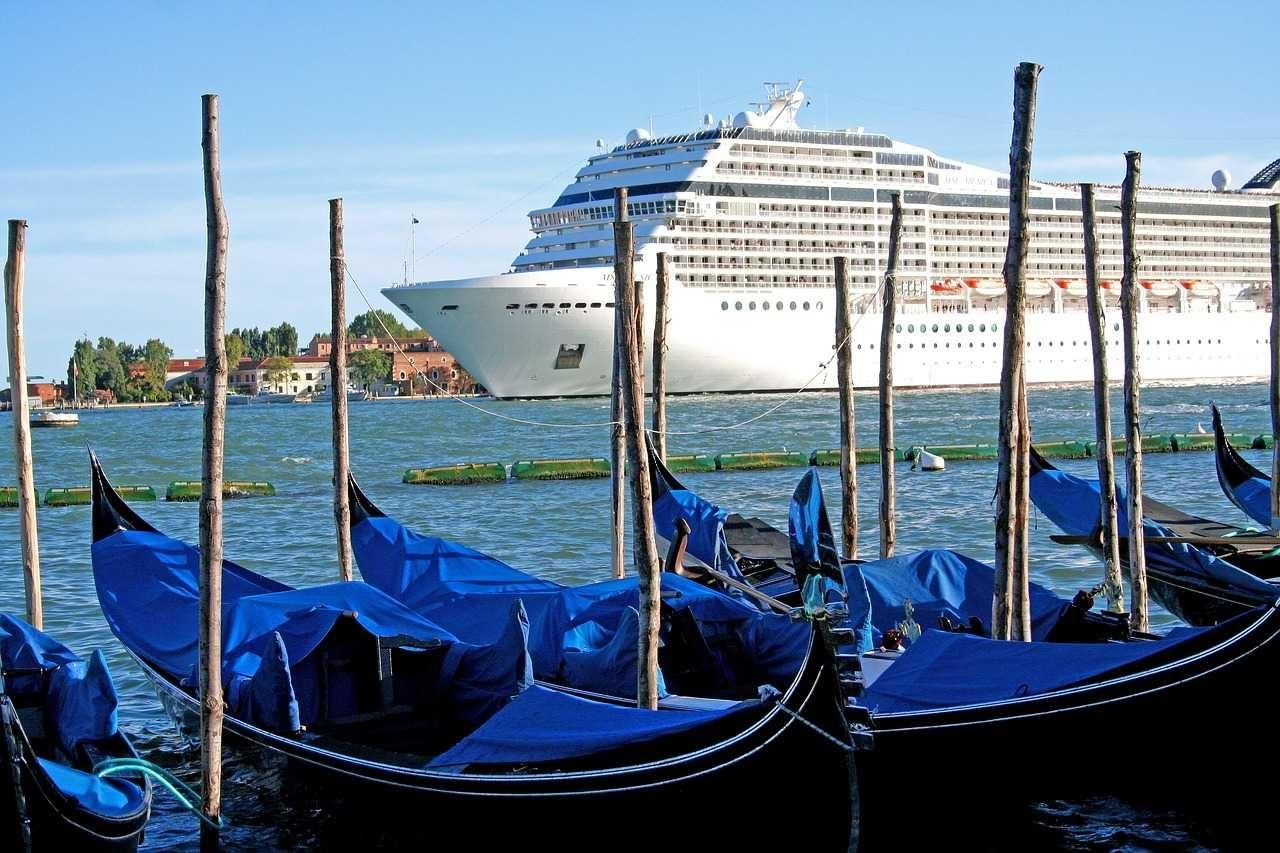kayak: (87, 112, 849, 805), (380, 80, 1274, 402), (832, 539, 1279, 748), (0, 614, 157, 848), (1028, 449, 1279, 576), (1209, 401, 1279, 531), (401, 457, 609, 487), (28, 409, 81, 426)
